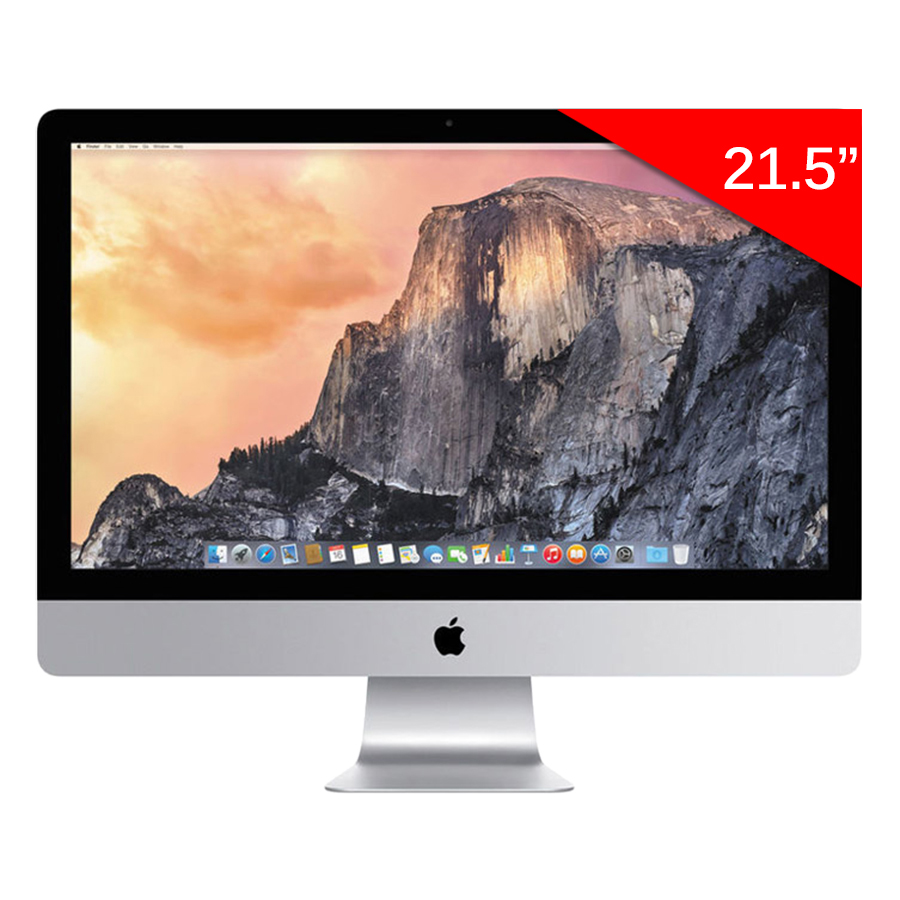Apple: (343, 544, 590, 717)
